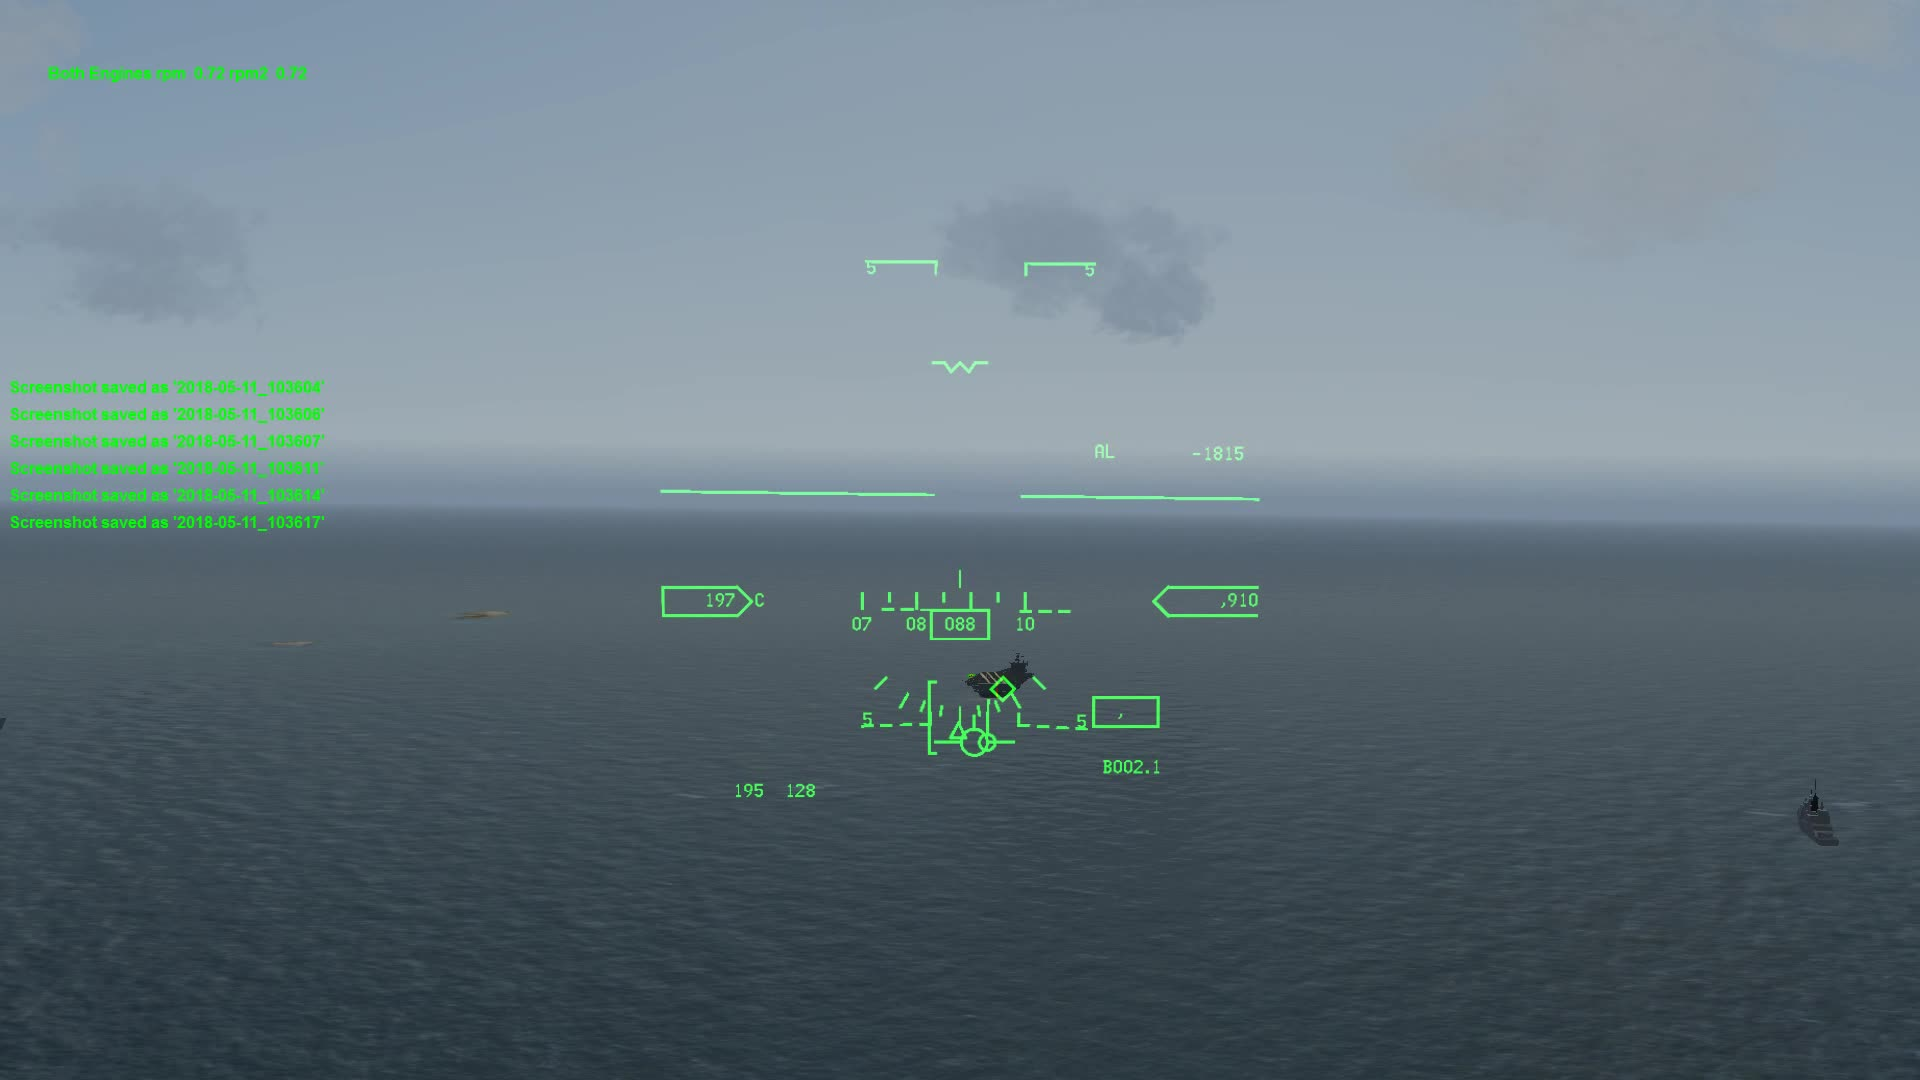speed vector: (938, 717, 1018, 764)
